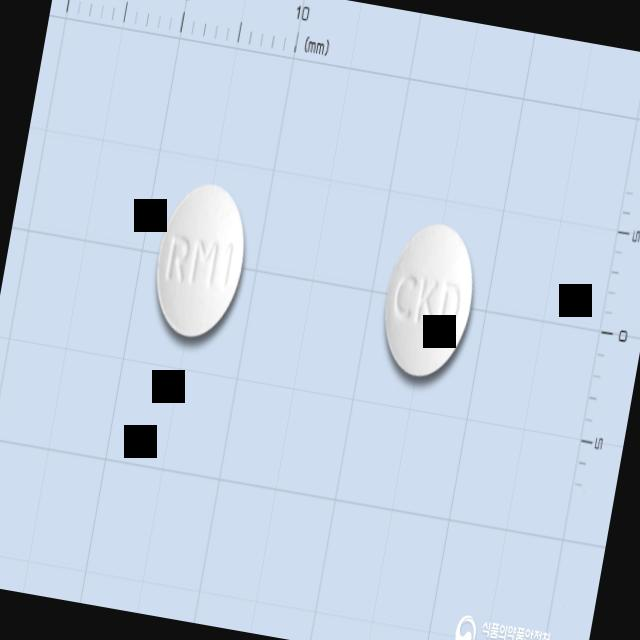Rheumide Tab: (373, 214, 485, 384), (144, 177, 256, 344)
